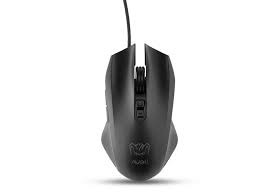mouse: (97, 42, 184, 184)
